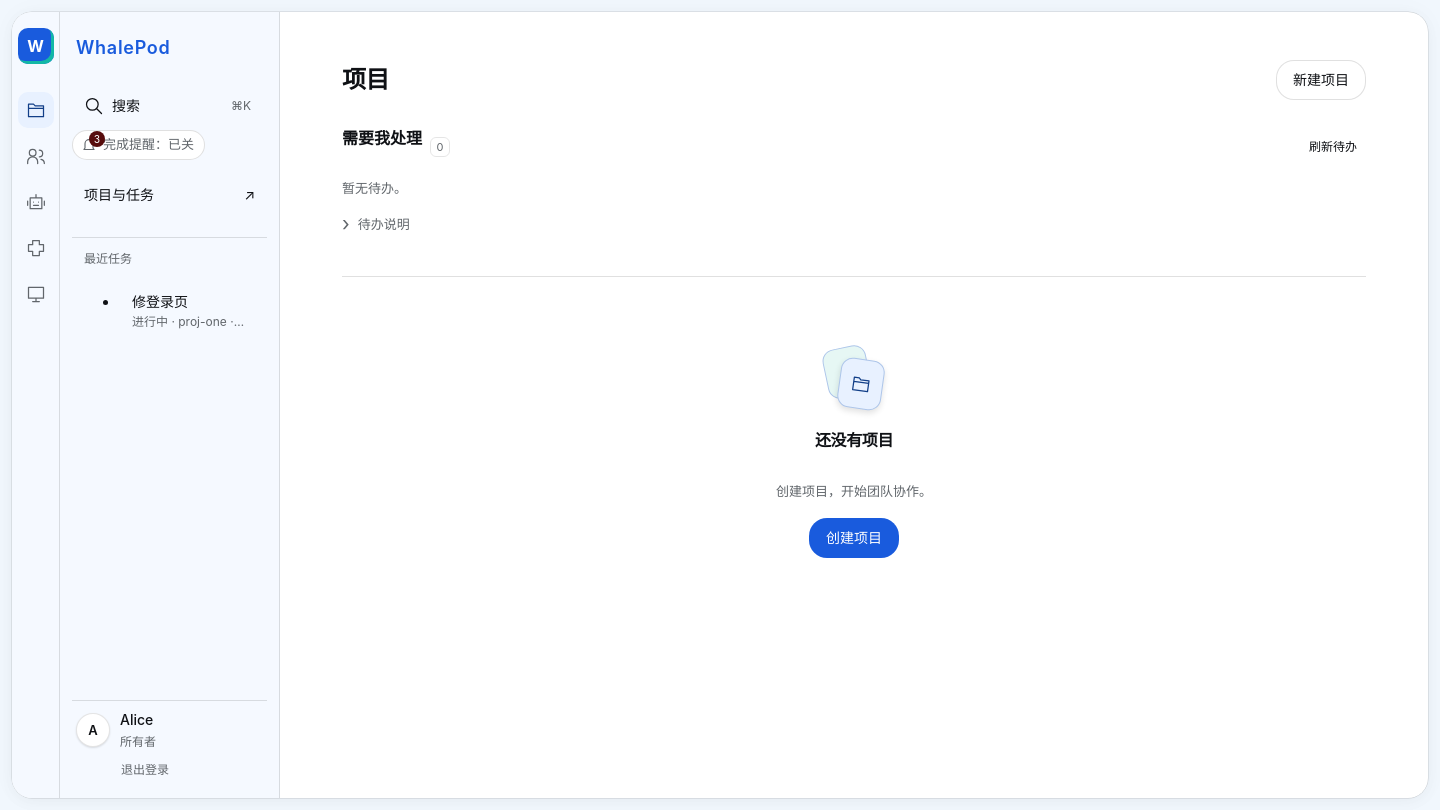
Test: 运行完成通知（#259） › 进任务房间即已读：该任务计数清零、标题还原；事后重放不补记
点侧栏最近任务进房（真人路径）。
Click the link "修登录页 进行中 · proj-one · 10月1日" at [190, 311], box [120, 285, 259, 337]
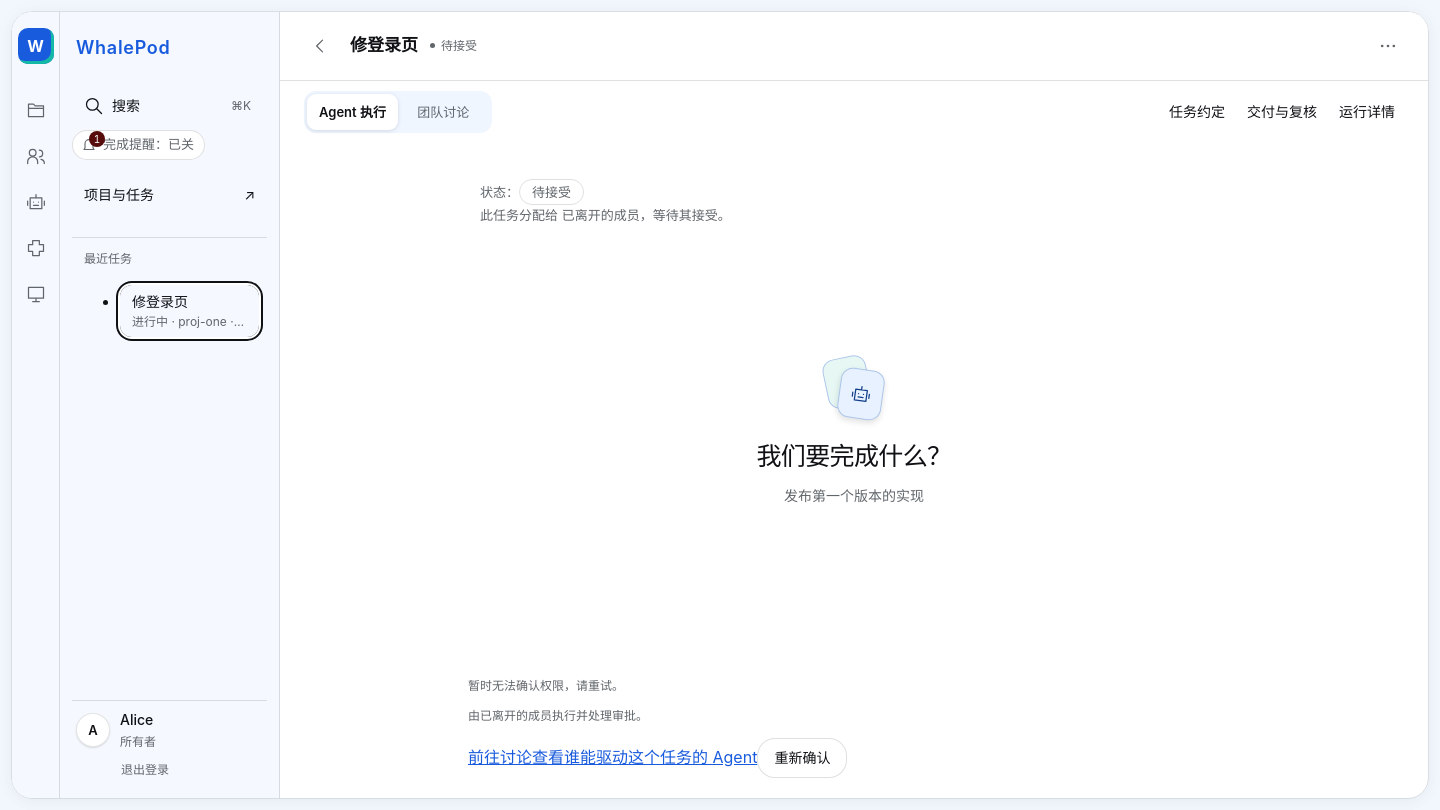
Result: the heading "修登录页" is shown at [350, 34, 418, 58]
